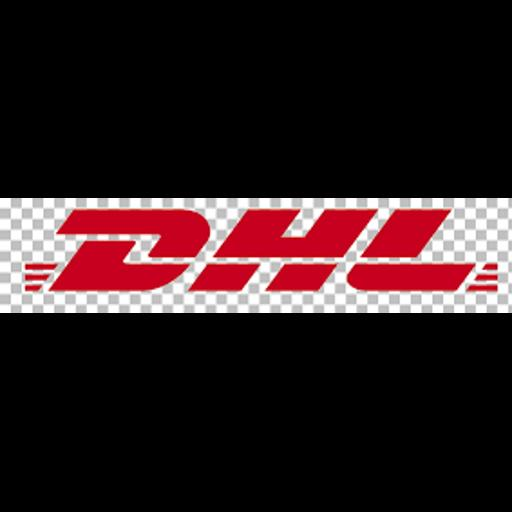DHL: (0, 198, 512, 313)
